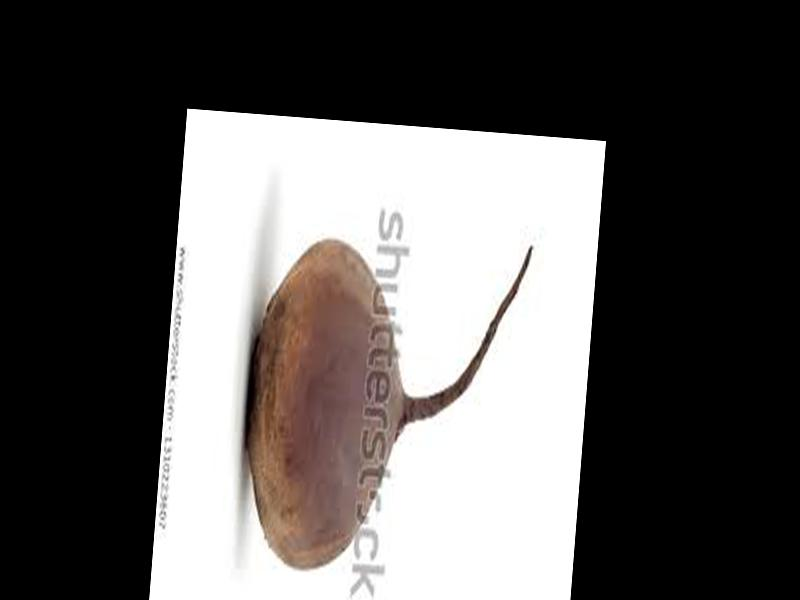Beet: (233, 225, 533, 589)
